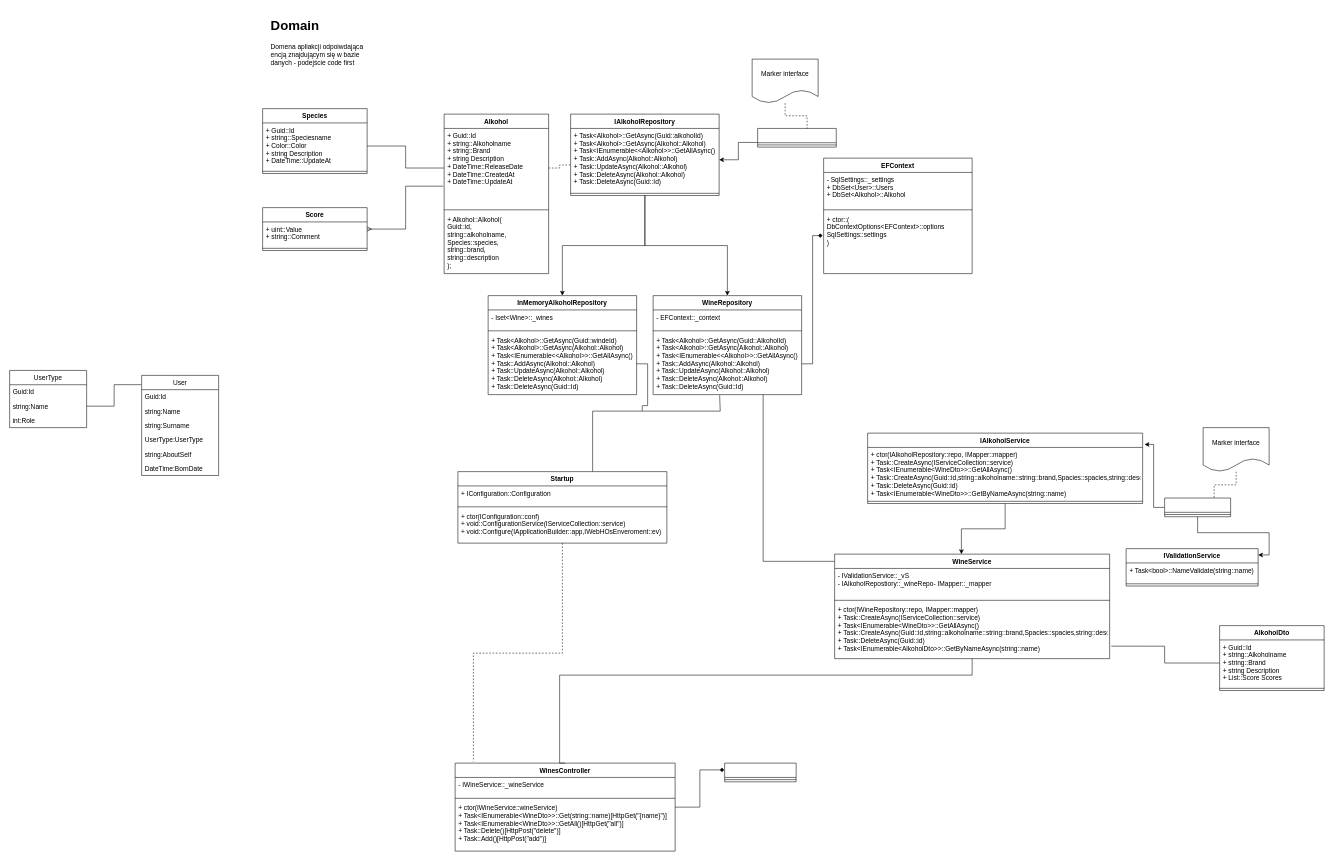
This 1334x862 diagram has some shape labels left out. The shapes that lost their labels are listed below. From the top down, each one's centre as x and y in pixels, then its label:
At [796,137]: "IRepository".
At [1197,507]: "IService".
At [760,772]: "Controller".
